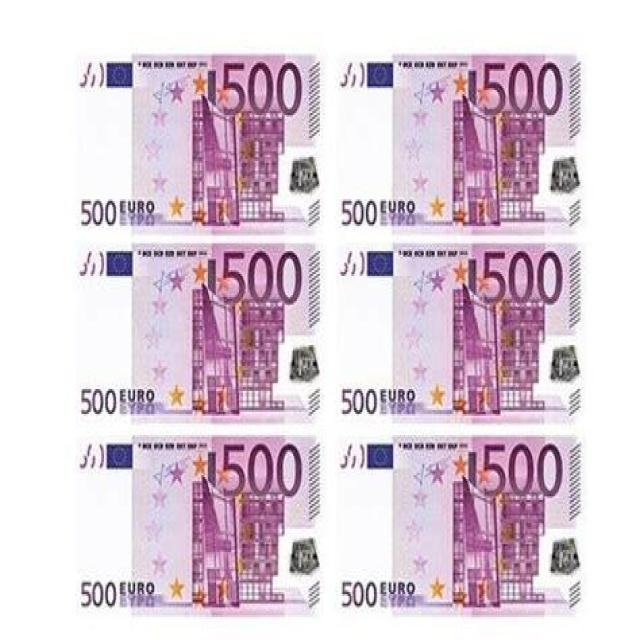banknote: (51, 53, 327, 239), (61, 432, 332, 621), (55, 240, 332, 424), (328, 432, 588, 615), (325, 51, 582, 235), (326, 240, 587, 418), (217, 244, 309, 311), (218, 437, 308, 502), (217, 54, 303, 120), (480, 246, 566, 310), (481, 59, 566, 121), (335, 189, 380, 235), (338, 571, 380, 613), (77, 377, 117, 420), (76, 576, 118, 614), (341, 378, 378, 416), (80, 194, 118, 229), (75, 434, 106, 474), (73, 56, 105, 94), (70, 250, 104, 282)
